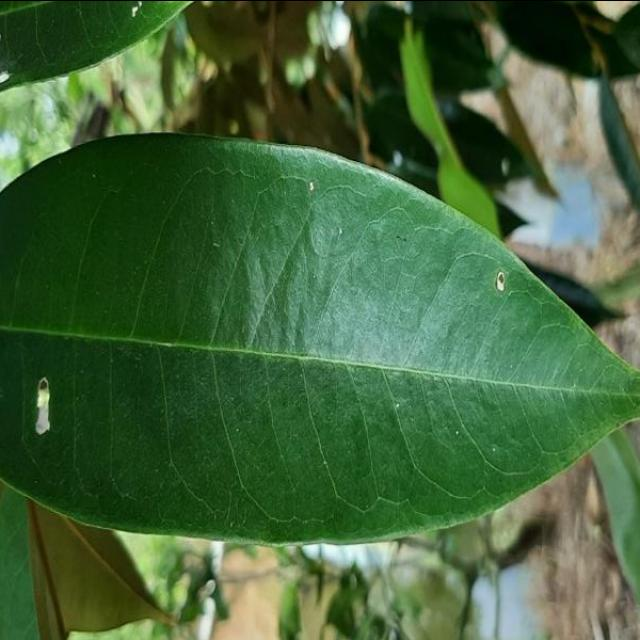No Disease: (0, 129, 640, 561)
